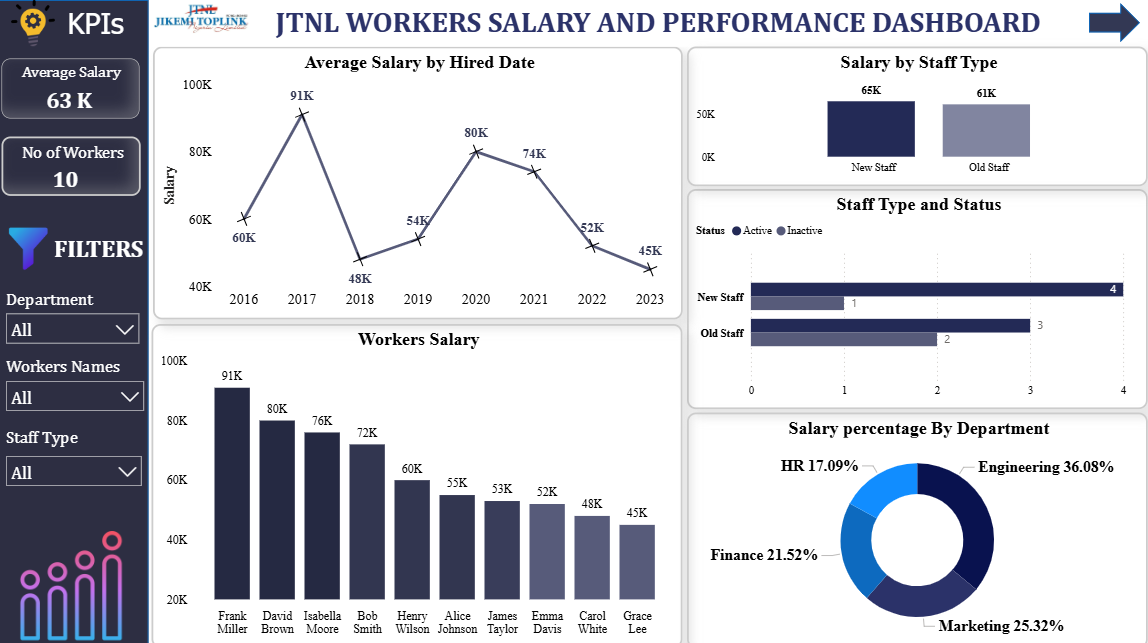

The page's visual inventory and layout, read from the dashboard file:
{"tool":"powerbi","page":{"name":"JTNL 1","canvas":[1280,720],"ordinal":0},"visuals":[{"type":"shape","box":[0,0,168.3,720],"z":0},{"type":"lineChart","title":"Average Salary by Hired Date","fields":{"Category":["EMPLOYEES.Hire Date.Variation.Date Hierarchy.Year"],"Y":["Avg(EMPLOYEES.Salary)"]},"box":[173.3,51.7,588.3,303.3],"z":1000},{"type":"cardVisual","title":"Average Salary ","fields":{"Data":["Median(EMPLOYEES.Salary)"]},"box":[5,65,153.3,66.7],"z":2000,"group":"g2"},{"type":"clusteredBarChart","title":"Staff Type and Status","fields":{"Category":["EMPLOYEES.Staff Type"],"Series":["EMPLOYEES.Status"],"Y":["CountNonNull(EMPLOYEES.ID)"]},"box":[765.9,210.5,511.7,244.5],"z":2000},{"type":"image","box":[173.3,0,110,51.7],"z":3000},{"type":"cardVisual","title":"No of Workers ","fields":{"Data":["CountNonNull(EMPLOYEES.ID)"]},"box":[5.7,150.9,154.7,66],"z":4000,"group":"g1"},{"type":"columnChart","title":"Workers Salary","fields":{"Category":["EMPLOYEES.Clean Names"],"Y":["Sum(EMPLOYEES.Salary)"]},"box":[171.7,360,590,360],"z":4000},{"type":"donutChart","title":" Salary percentage  By Department","fields":{"Category":["EMPLOYEES.Department"],"Y":["Sum(EMPLOYEES.Salary)"]},"box":[766.7,458.3,511.7,261.7],"z":5000},{"type":"textbox","box":[283.4,0,900.3,51.8],"z":6000},{"type":"columnChart","title":" Salary by Staff Type","fields":{"Category":["EMPLOYEES.Staff Type"],"Y":["Avg(EMPLOYEES.Salary)"]},"box":[765.9,51.8,511.7,155.4],"z":7000},{"type":"textbox","box":[72.6,0,87.8,53.5],"z":8000},{"type":"image","box":[0,0,80.2,51.6],"z":9000},{"type":"textbox","box":[57.8,254.5,112.8,46.3],"z":10000},{"type":"slicer","fields":{"Values":["EMPLOYEES.Department"]},"box":[0,338.3,167.7,52],"z":11000},{"type":"slicer","fields":{"Values":["EMPLOYEES.Names"]},"box":[0,413.5,173.5,46.3],"z":12000},{"type":"slicer","fields":{"Values":["EMPLOYEES.Staff Type"]},"box":[0,497.3,170.6,43.4],"z":13000},{"type":"group","id":"g1","title":"Group 1","box":[5.7,150.9,154.7,68.9],"z":14000},{"type":"textbox","box":[57.8,179.3,63.6,40.5],"z":14001,"group":"g1"},{"type":"textbox","box":[50,91.7,65,40],"z":15000,"group":"g2"},{"type":"textbox","box":[5,315,156.7,35],"z":15000},{"type":"textbox","box":[5.8,390.4,159,31.8],"z":16000},{"type":"textbox","box":[5,468.3,158.3,36.7],"z":17000},{"type":"image","box":[0,251.6,69.4,49.2],"z":18000},{"type":"image","box":[0,589.3,164.6,130.1],"z":19000},{"type":"shape","box":[1212.8,3.2,56.7,43.7],"z":20000},{"type":"group","id":"g2","title":"Group 2","box":[5,65,153.3,66.7],"z":21000}]}

Visuals, with their boxes in screenshot pixels (x1, y1, x2, y2), scaled from the page's 1280x720 canvas onto the 1148x643 screenshot:
shape: locate(0, 0, 151, 642)
"Average Salary by Hired Date" lineChart: locate(155, 46, 683, 317)
"Average Salary " cardVisual: locate(4, 58, 142, 118)
"Staff Type and Status" clusteredBarChart: locate(687, 188, 1146, 406)
image: locate(155, 0, 254, 46)
"No of Workers " cardVisual: locate(5, 135, 144, 194)
"Workers Salary" columnChart: locate(154, 322, 683, 642)
" Salary percentage  By Department" donutChart: locate(688, 409, 1147, 642)
textbox: locate(254, 0, 1062, 46)
" Salary by Staff Type" columnChart: locate(687, 46, 1146, 185)
textbox: locate(65, 0, 144, 48)
image: locate(0, 0, 72, 46)
textbox: locate(52, 227, 153, 269)
slicer - EMPLOYEES.Department: locate(0, 302, 150, 349)
slicer - EMPLOYEES.Names: locate(0, 369, 156, 411)
slicer - EMPLOYEES.Staff Type: locate(0, 444, 153, 483)
"Group 1" group: locate(5, 135, 144, 196)
textbox: locate(52, 160, 109, 196)
textbox: locate(45, 82, 103, 118)
textbox: locate(4, 281, 145, 313)
textbox: locate(5, 349, 148, 377)
textbox: locate(4, 418, 146, 451)
image: locate(0, 225, 62, 269)
image: locate(0, 526, 148, 642)
shape: locate(1088, 3, 1139, 42)
"Group 2" group: locate(4, 58, 142, 118)
